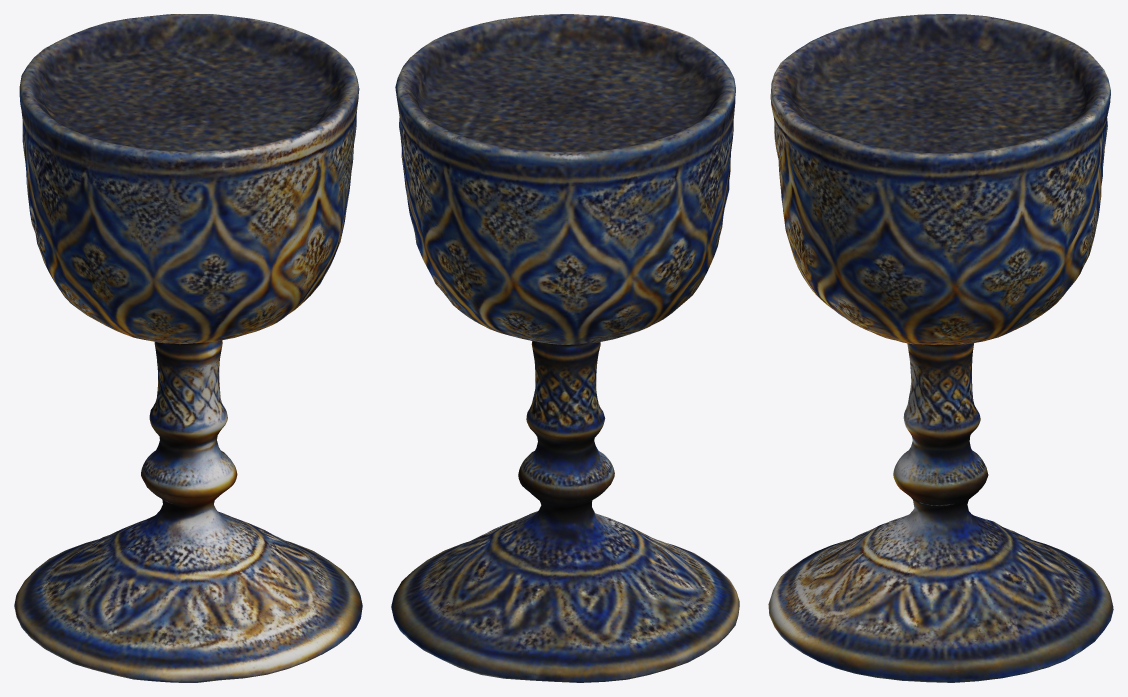
File: chalice.fbx
The picture shows the model from 3 angles, left to right: view 1: azimuth 30°, elevation 25°; view 2: azimuth 150°, elevation 25°; view 3: azimuth 270°, elevation 25°; orthographic projection.
Parts seen in each view (by area): view 1: mesh; view 2: mesh; view 3: mesh.
Boxes of the visible parts, x1,y1,x2,y2 form: mesh: (14,14,362,682); mesh: (391,14,739,682); mesh: (768,14,1113,682).
Size of the model in its own units: 58.98 by 99.9 by 58.98.
